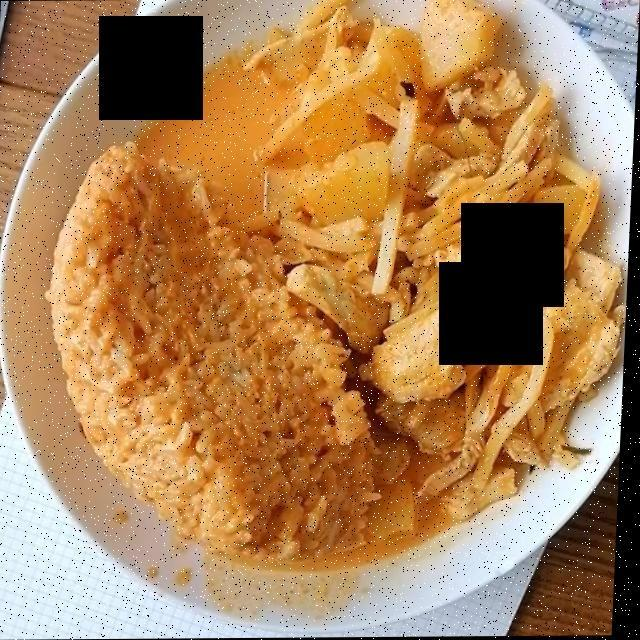chicken-curry: (162, 4, 625, 545)
pineapple: (302, 2, 611, 542)
rice: (40, 166, 379, 574)
